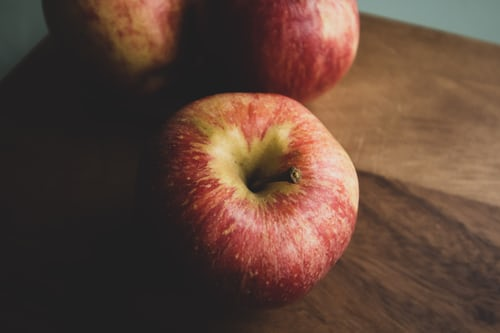apple: (147, 91, 362, 307), (179, 1, 360, 109), (42, 1, 189, 111)
